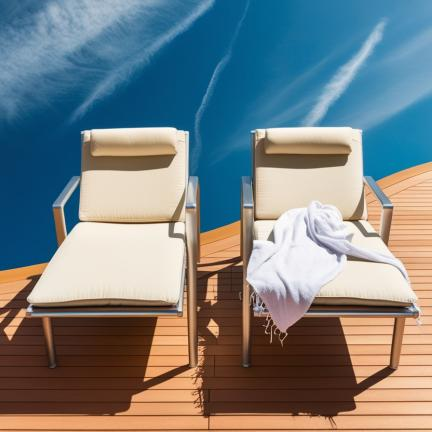empty chair: (26, 127, 199, 368)
occupied chair: (241, 127, 420, 368)
